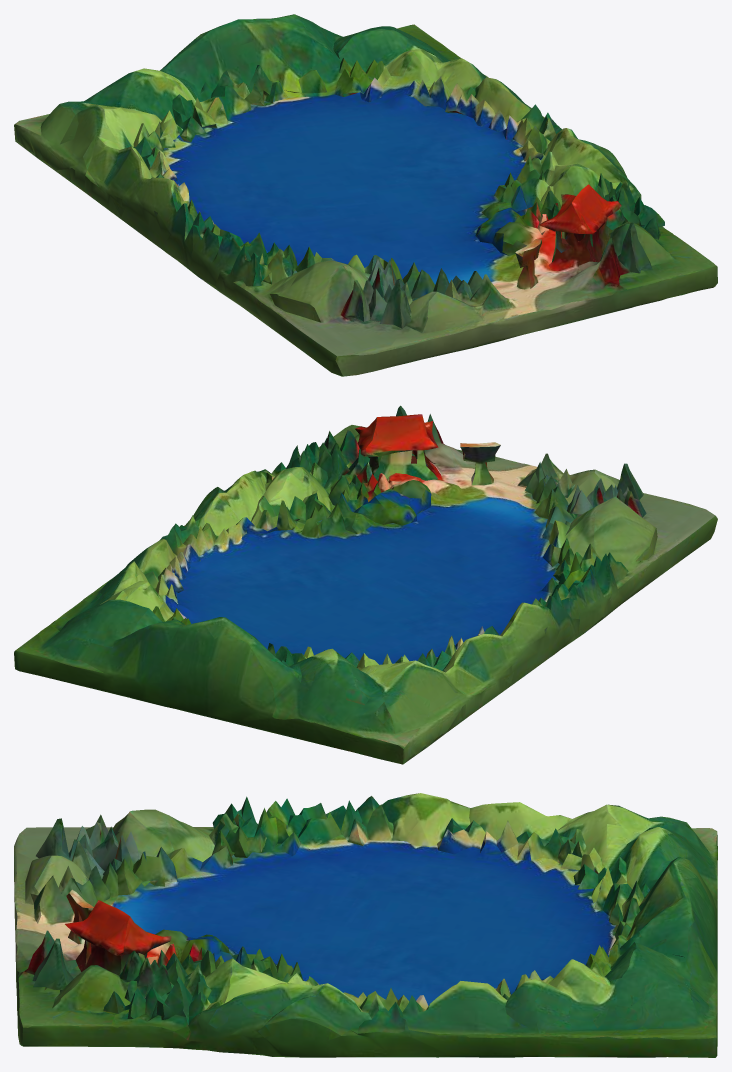
Rendered from lake-tazawa.glb.
3 renders of one model, top to bottom at view 1: azimuth 30°, elevation 25°; view 2: azimuth 150°, elevation 25°; view 3: azimuth 270°, elevation 25°, orthographic. The views are drawn at different scales.
Parts seen in each view (by area): view 1: logan-textured.obj; view 2: logan-textured.obj; view 3: logan-textured.obj.
Boxes of the visible parts, bbox=[...] form: logan-textured.obj: bbox=[14, 14, 717, 376]; logan-textured.obj: bbox=[14, 405, 717, 764]; logan-textured.obj: bbox=[14, 793, 717, 1057].
Size of the model in its own units: 0.7105 by 0.1476 by 1.
Materials: 1 (1 with a texture image).
